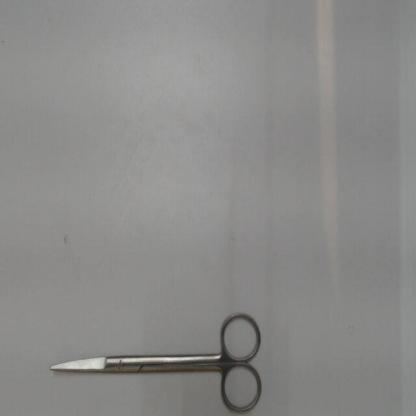Curved Mayo Scissors: (45, 305, 268, 414)
